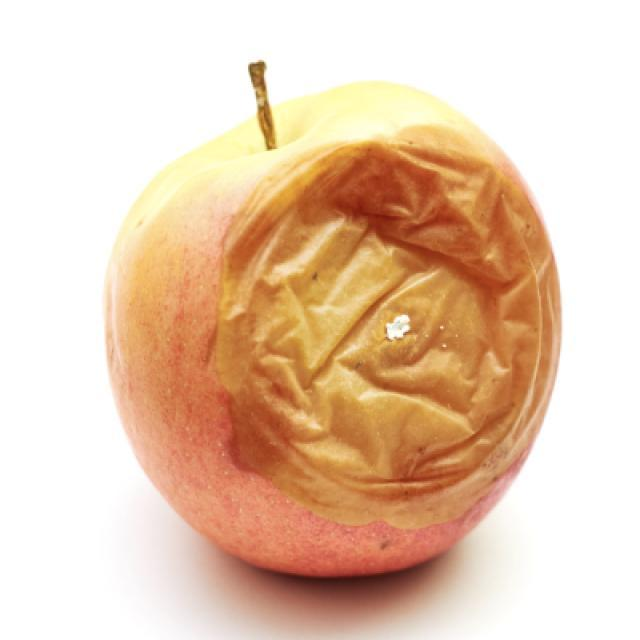Rotten: (112, 118, 540, 590)
